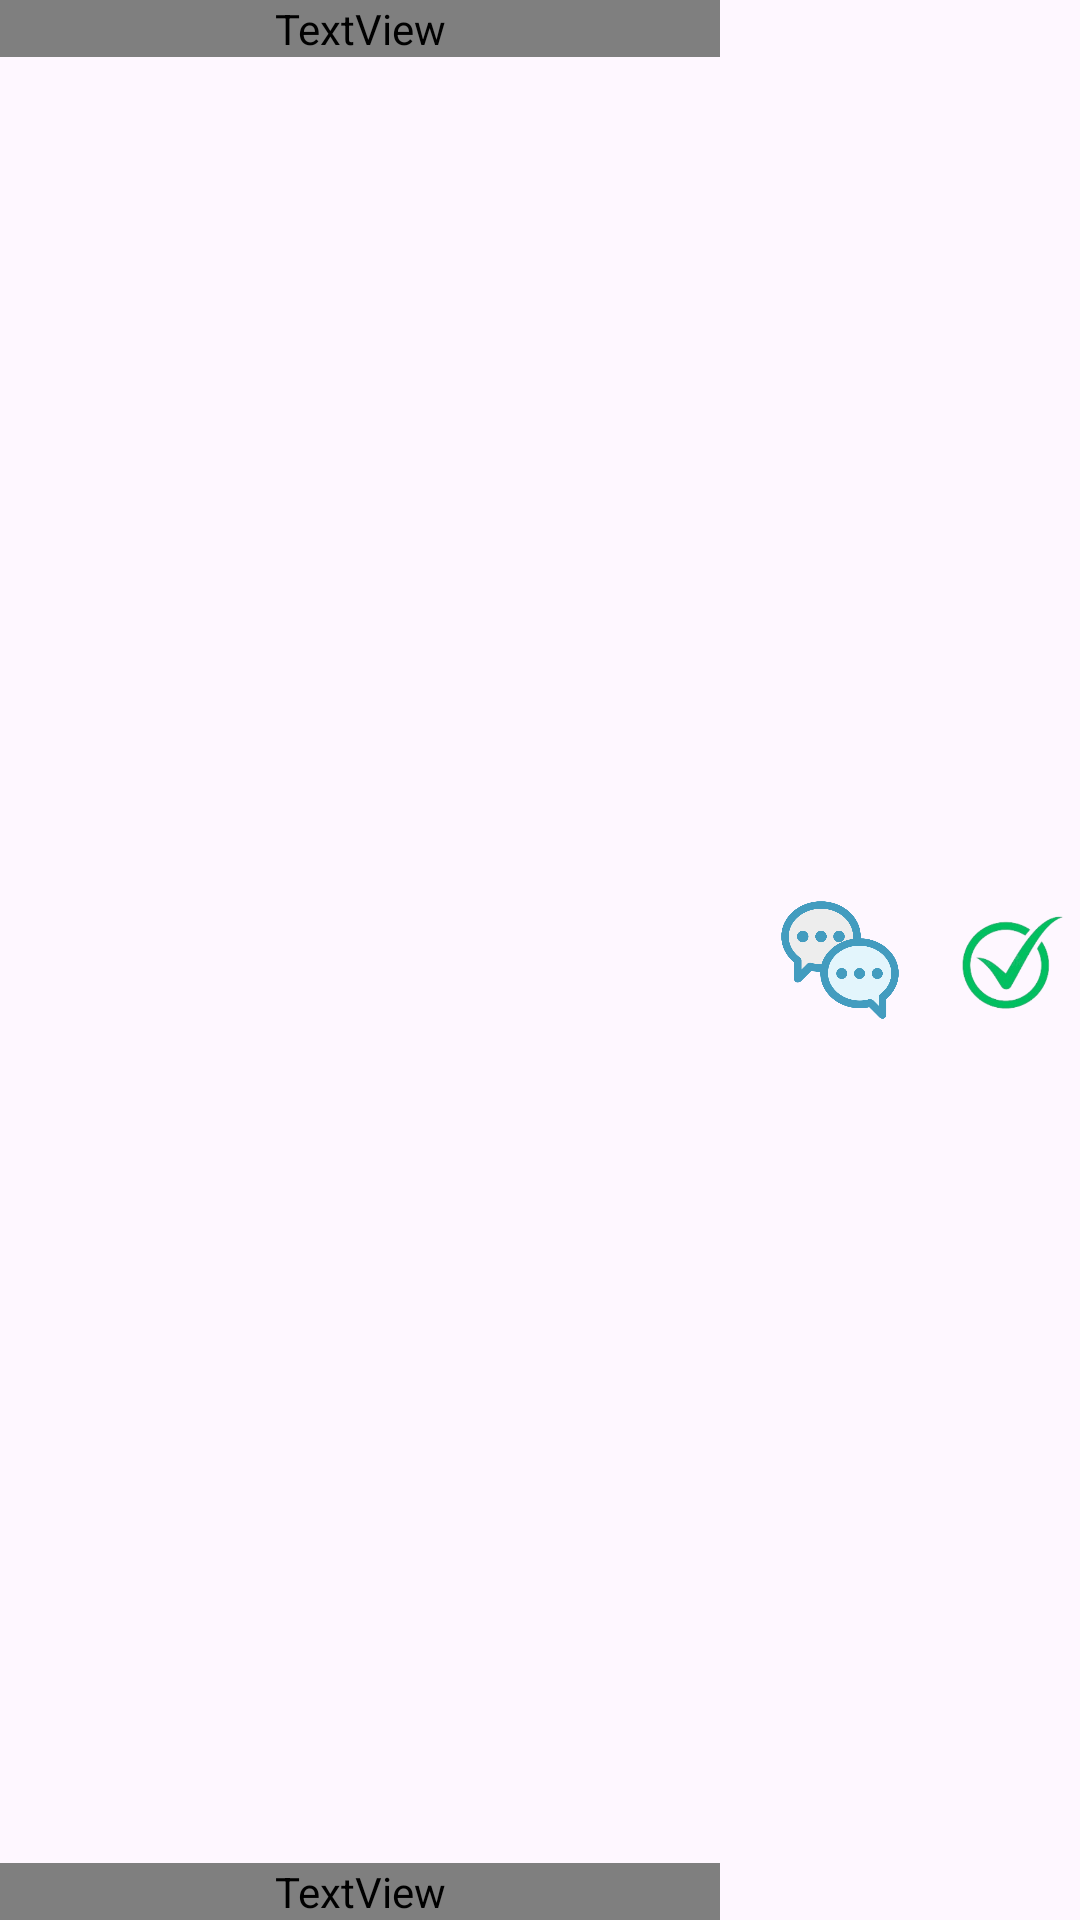

Named icons in this screenshot (1080×1920) and their centers, (x=x, y=y):
check: (x=1012, y=962)
